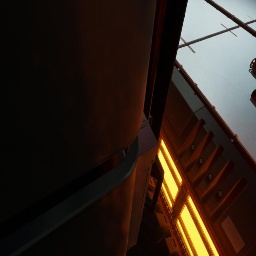0: (184, 14, 185, 18)
FireExtinguisher ]: (251, 89, 256, 102)
NitrogenTank ,: (250, 58, 256, 75)
SafetySwitchPanel ,: (118, 112, 158, 252)
